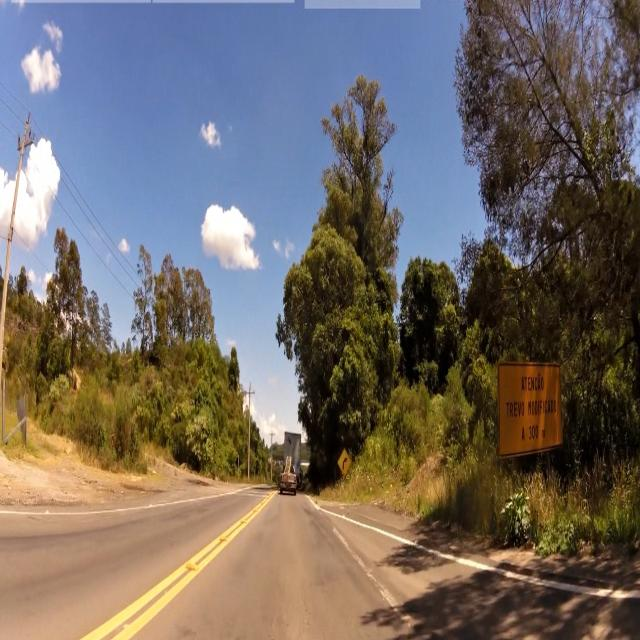A-2b: (335, 448, 353, 476)
